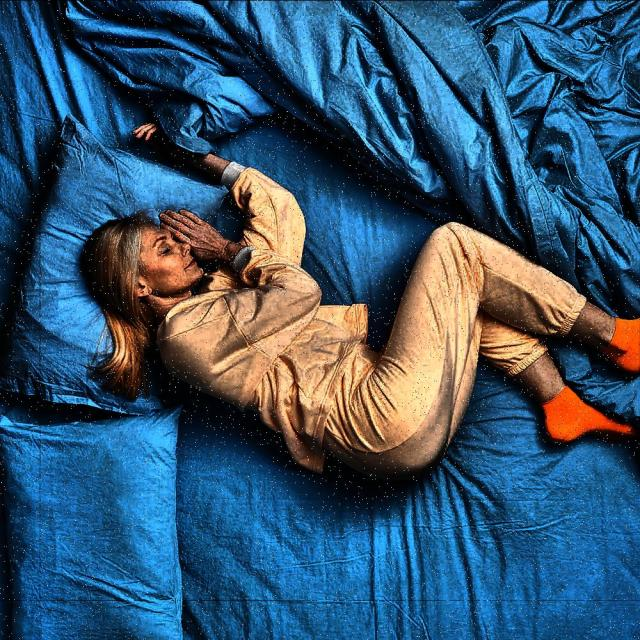Not_Supine: (86, 155, 640, 478)
